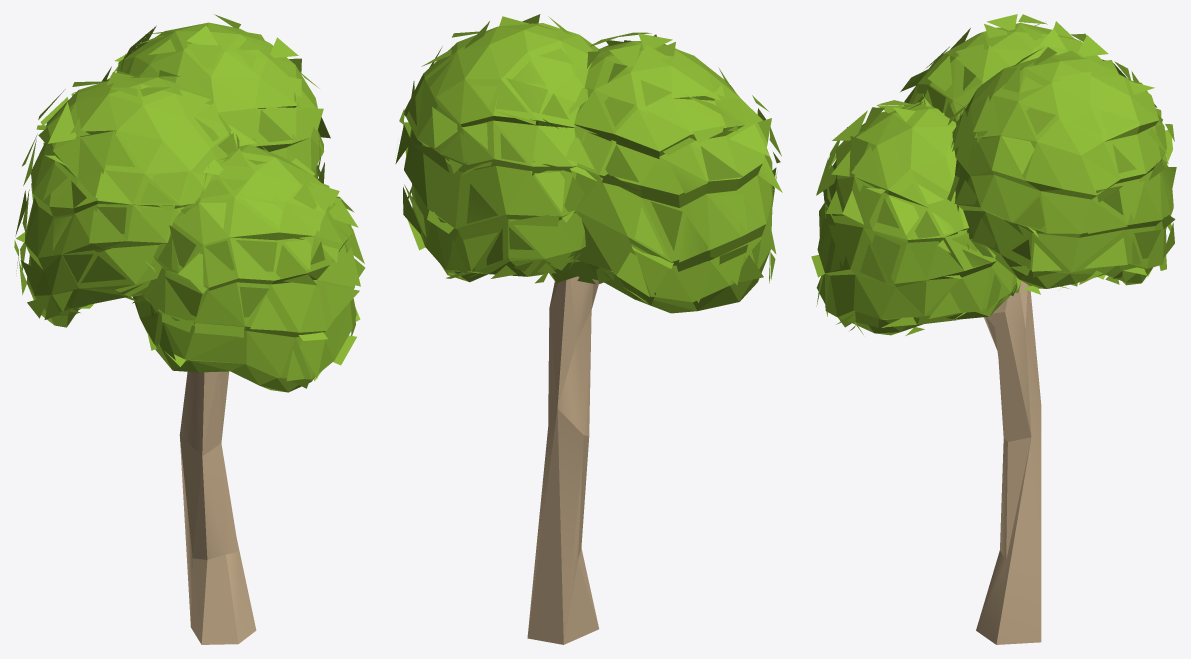
File: Bigtooth.fbx
The picture shows the model from 3 angles, left to right: view 1: azimuth 30°, elevation 25°; view 2: azimuth 150°, elevation 25°; view 3: azimuth 270°, elevation 25°; orthographic projection. The views are drawn at different scales.
Visible parts, largest first — view 1: Icosphere.007, Icosphere.015, trunk.004; view 2: Icosphere.007, Icosphere.015, trunk.004; view 3: Icosphere.007, Icosphere.015, trunk.004.
Boxes of the visible parts, x1,y1,x2,y2 form: Icosphere.007: (24, 22, 356, 392); Icosphere.015: (14, 14, 365, 388); trunk.004: (179, 371, 256, 644); Icosphere.007: (404, 23, 772, 313); Icosphere.015: (395, 14, 782, 305); trunk.004: (527, 276, 598, 644); Icosphere.007: (817, 22, 1170, 335); Icosphere.015: (811, 14, 1176, 335); trunk.004: (976, 281, 1041, 644).
Size of the model in its own units: 445 by 807 by 457.
